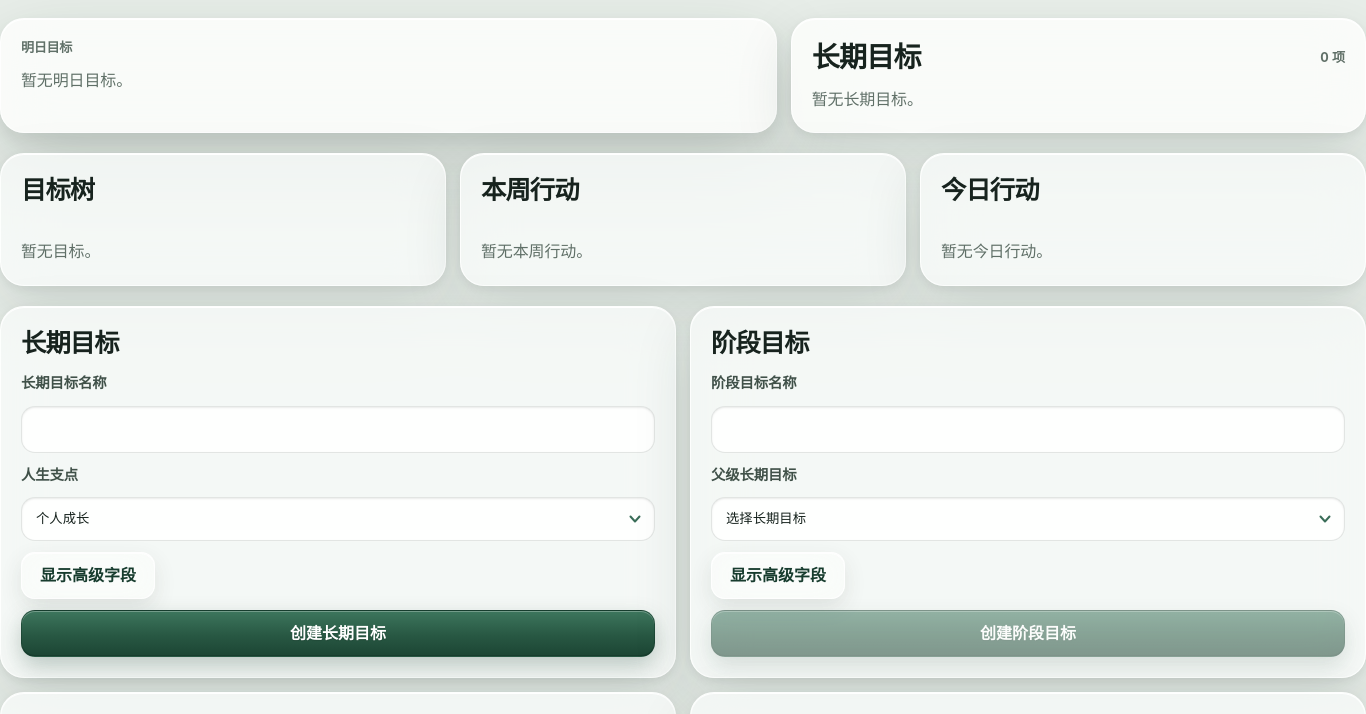
Test: PlanningWorkspace › keeps a frozen submission when a successful response cannot confirm its snapshot
Type "结果待确认" into the field labelled "长期目标名称" at (338, 429), box [21,406,655,453]
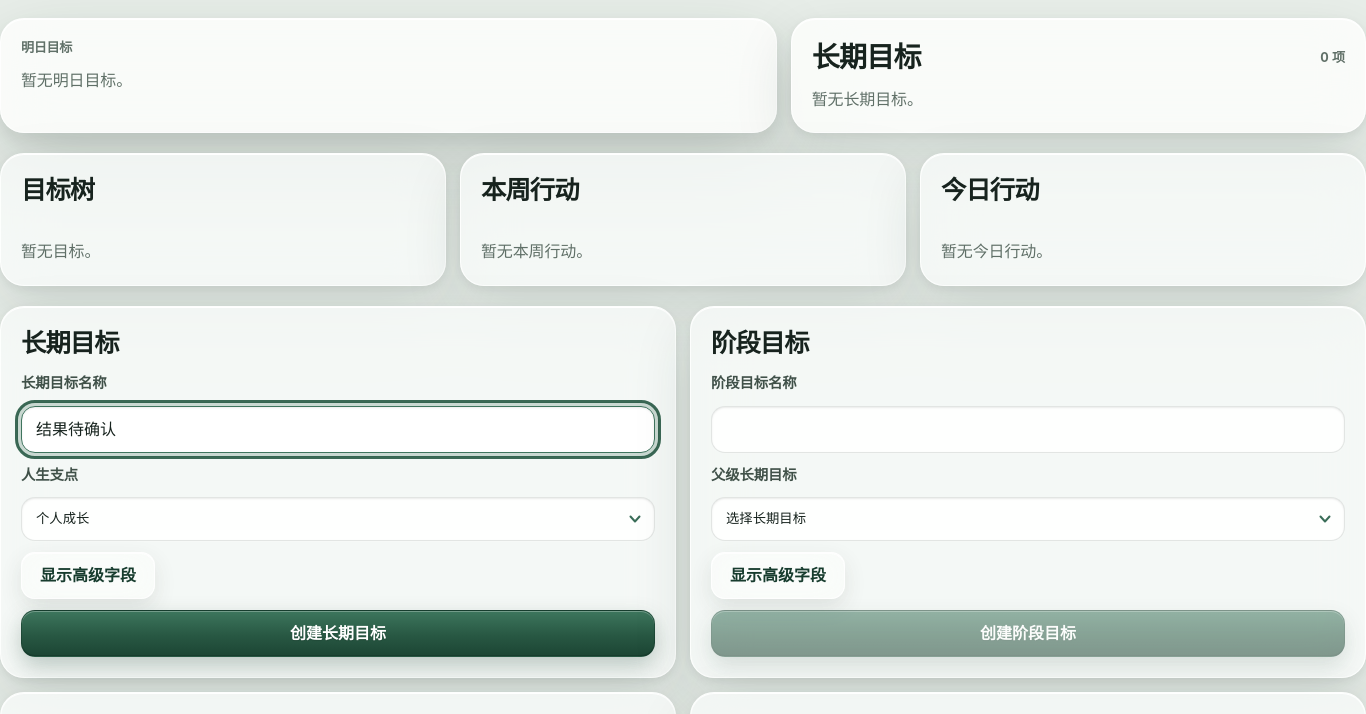
Click the button "创建长期目标" at (338, 633), box [21,610,655,656]
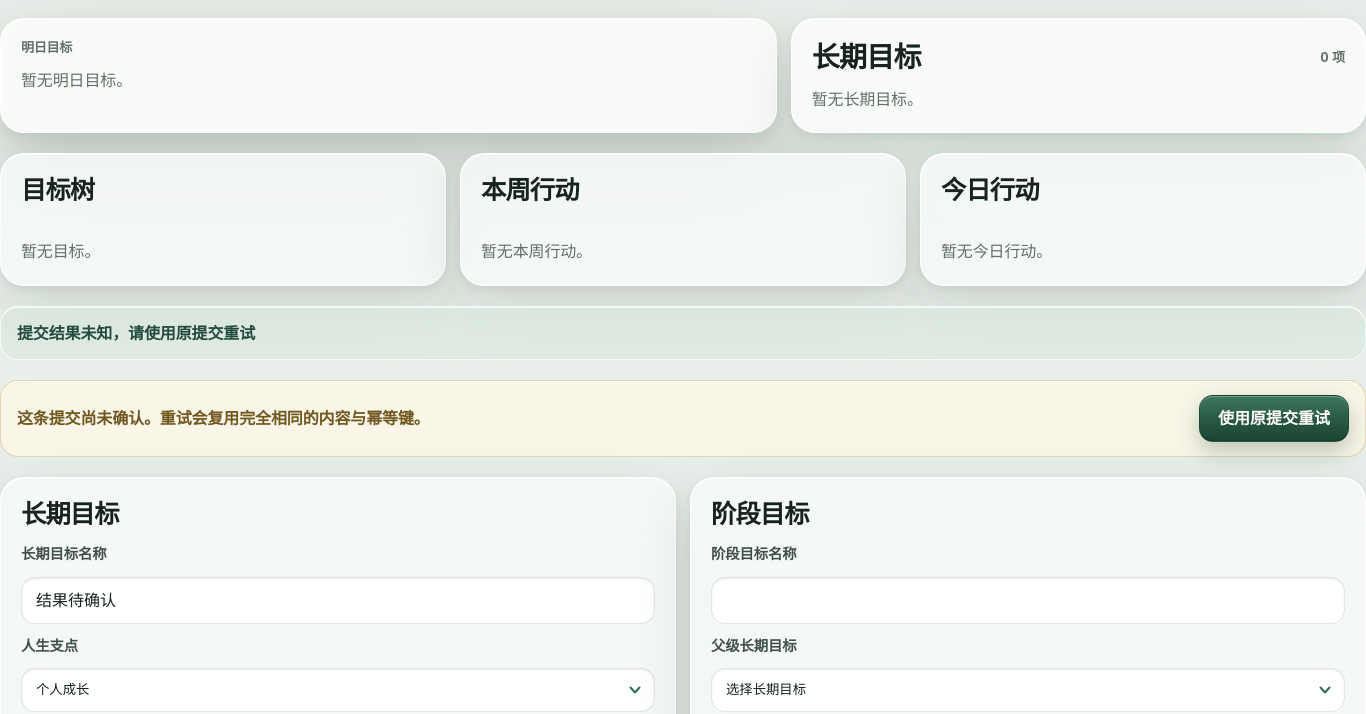
Expected: the button "使用原提交重试" is enabled, [1199,395,1349,442]
